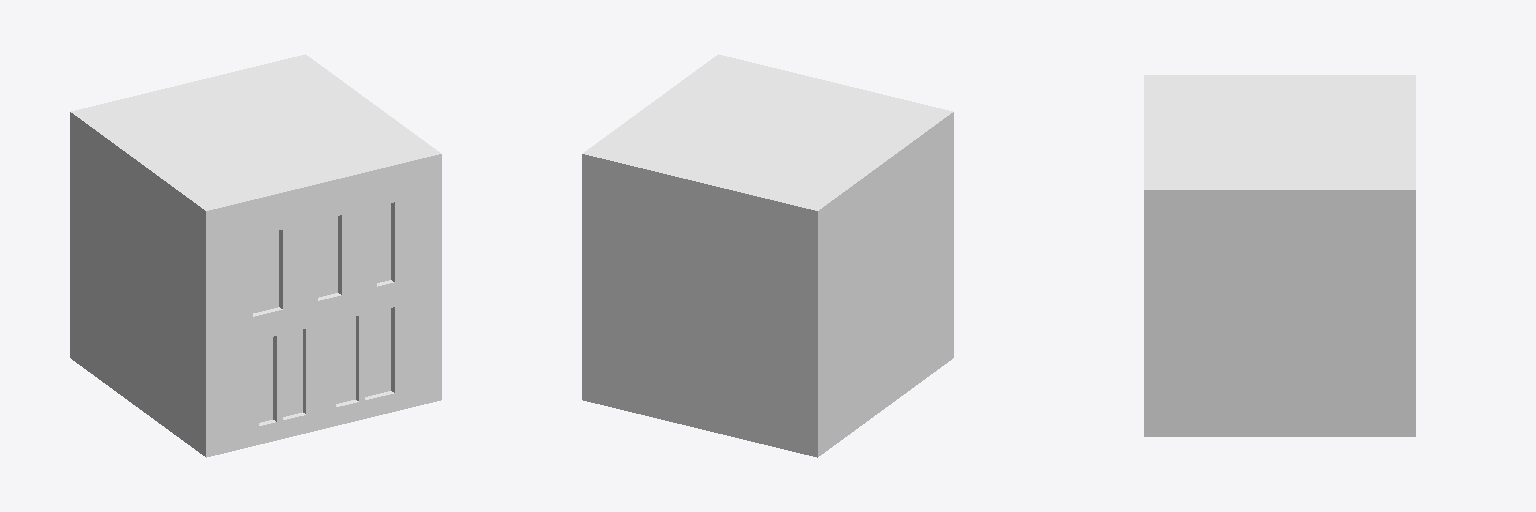
The model's file is test_square.vox.obj.
3 views of the same model, side by side, from view 1: azimuth 30°, elevation 25°; view 2: azimuth 150°, elevation 25°; view 3: azimuth 270°, elevation 25° (orthographic).
Parts seen in each view (by area): view 1: object 1; view 2: object 1; view 3: object 1.
Part boxes in pixels (x1,y1,x2,y2): object 1: (70,54,441,457); object 1: (582,54,953,457); object 1: (1144,75,1415,436).
Size of the model in its own units: 4 by 4 by 4.